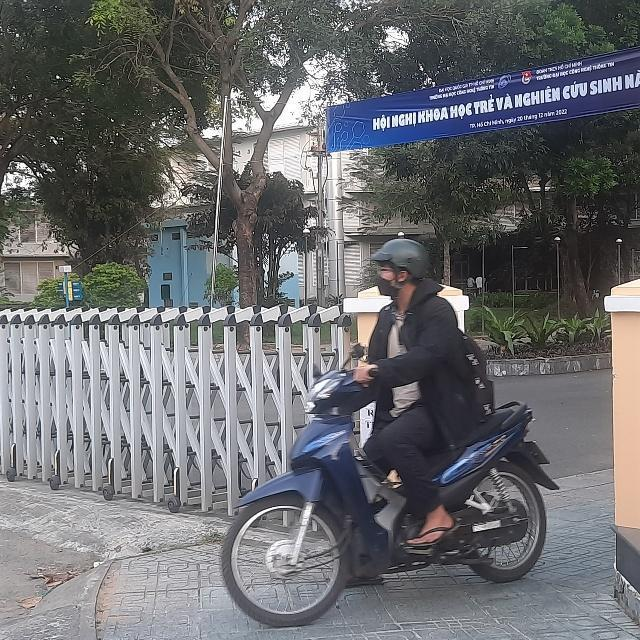Helmet: (371, 234, 433, 302)
